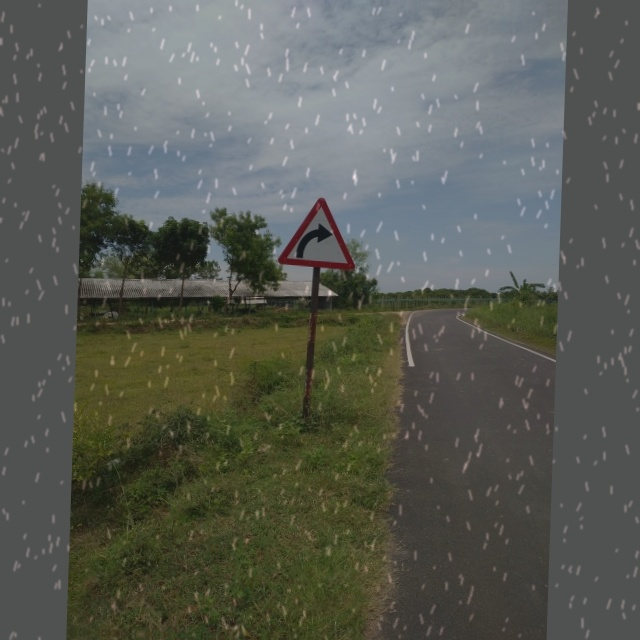Right_Hand_Curve: (278, 195, 355, 272)
